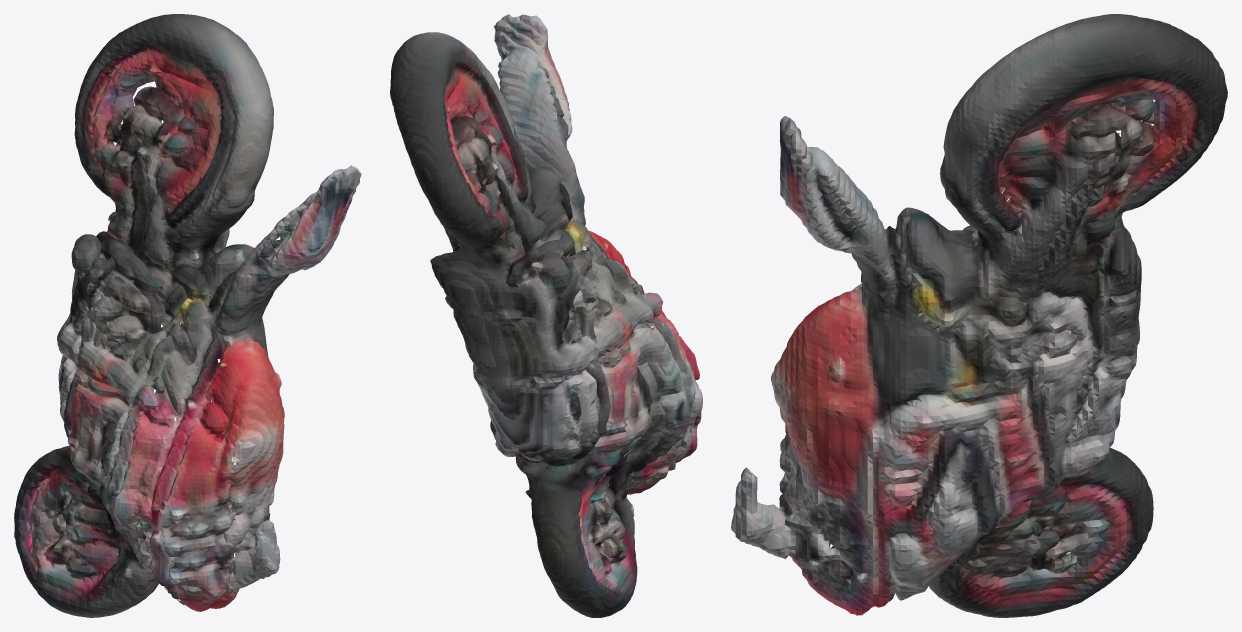
The model's file is 000006_motorcycle_vehicle_bicycle.glb.
3 renders of one model, left to right at view 1: azimuth 30°, elevation 25°; view 2: azimuth 150°, elevation 25°; view 3: azimuth 270°, elevation 25°, orthographic. The views are drawn at different scales.
Parts seen in each view (by area): view 1: world; view 2: world; view 3: world.
Boxes of the visible parts, x1,y1,x2,y2 form: world: (14, 14, 361, 617); world: (390, 14, 702, 617); world: (731, 14, 1227, 617).
Bounding box in the file's own units: 0.4122 × 0.9357 × 0.6157.
